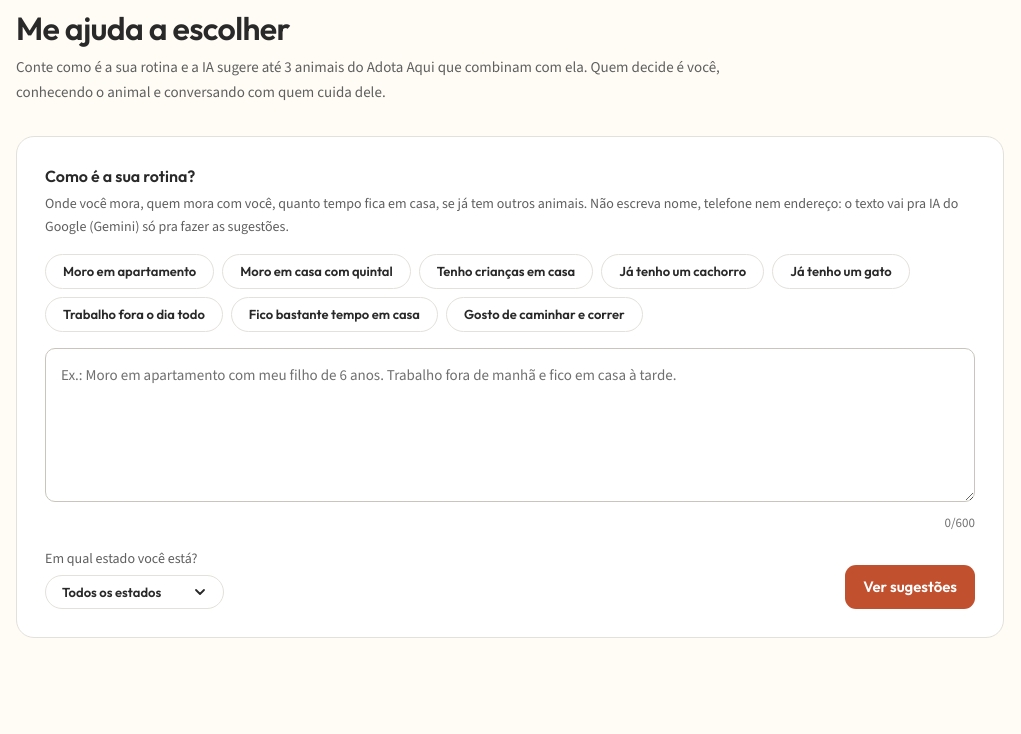
limite de uso ou IA fora do ar aparecem como aviso
Replace the text in the text box labelled "Como é a sua rotina?" with "Moro em apartamento e trabalho fora de manhã." at [510, 425], box x1=45 y1=348 x2=975 y2=502
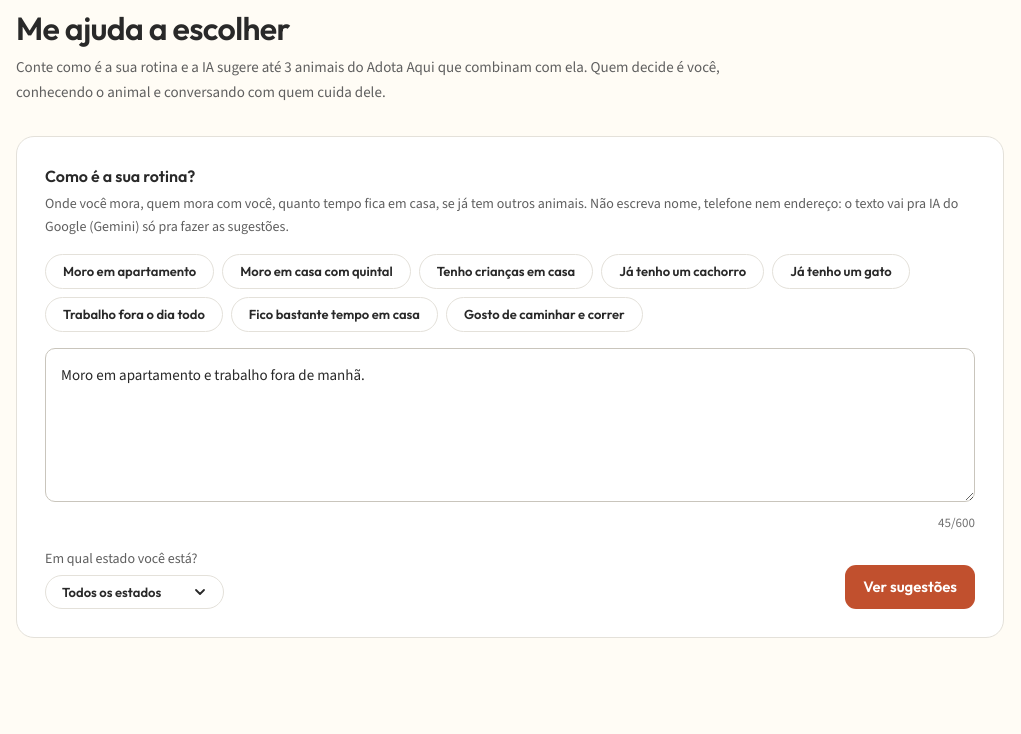
Click the button "Ver sugestões".
click(910, 587)  # box x1=845 y1=565 x2=975 y2=609
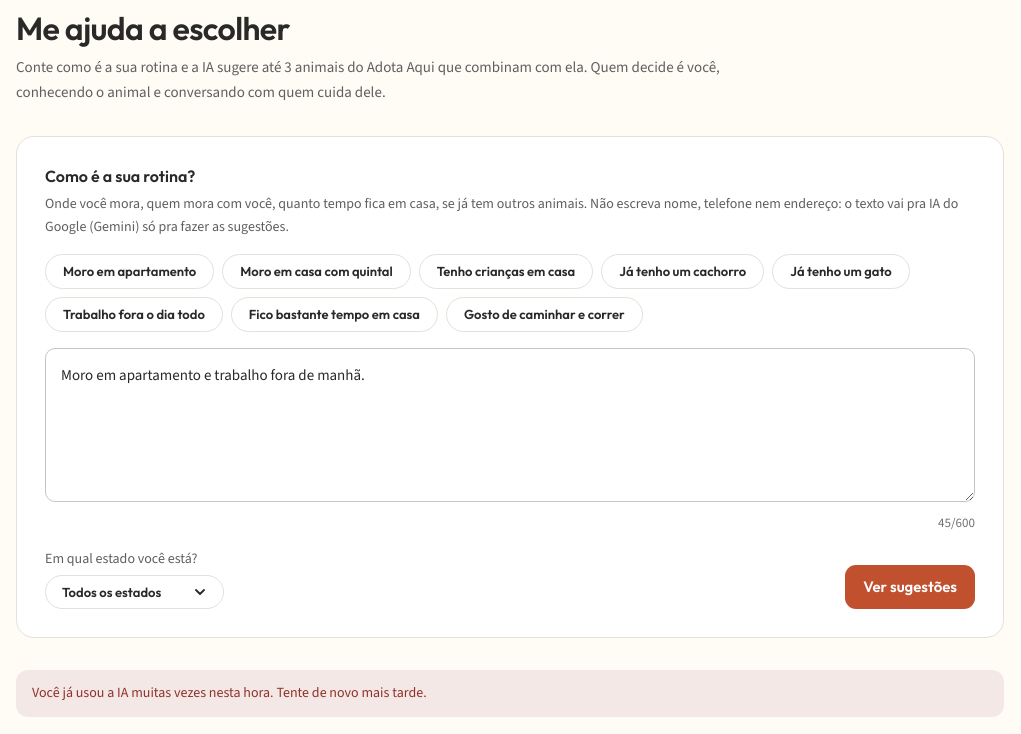
Now the message shows "Você já usou a IA muitas vezes nesta hora.", box x1=32 y1=683 x2=427 y2=702
